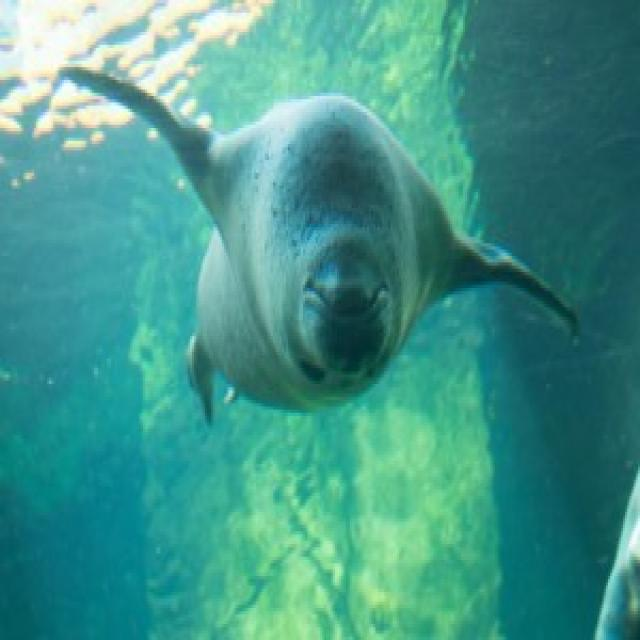Seal: (37, 55, 560, 421)
